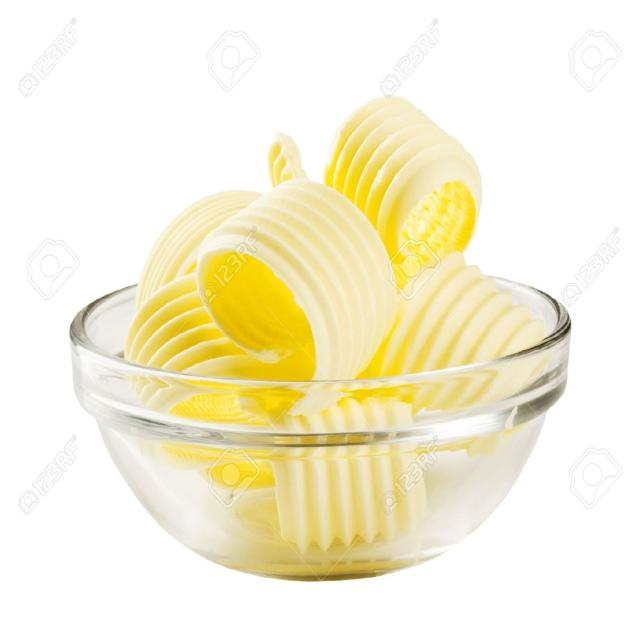Butter: (120, 108, 548, 490)
